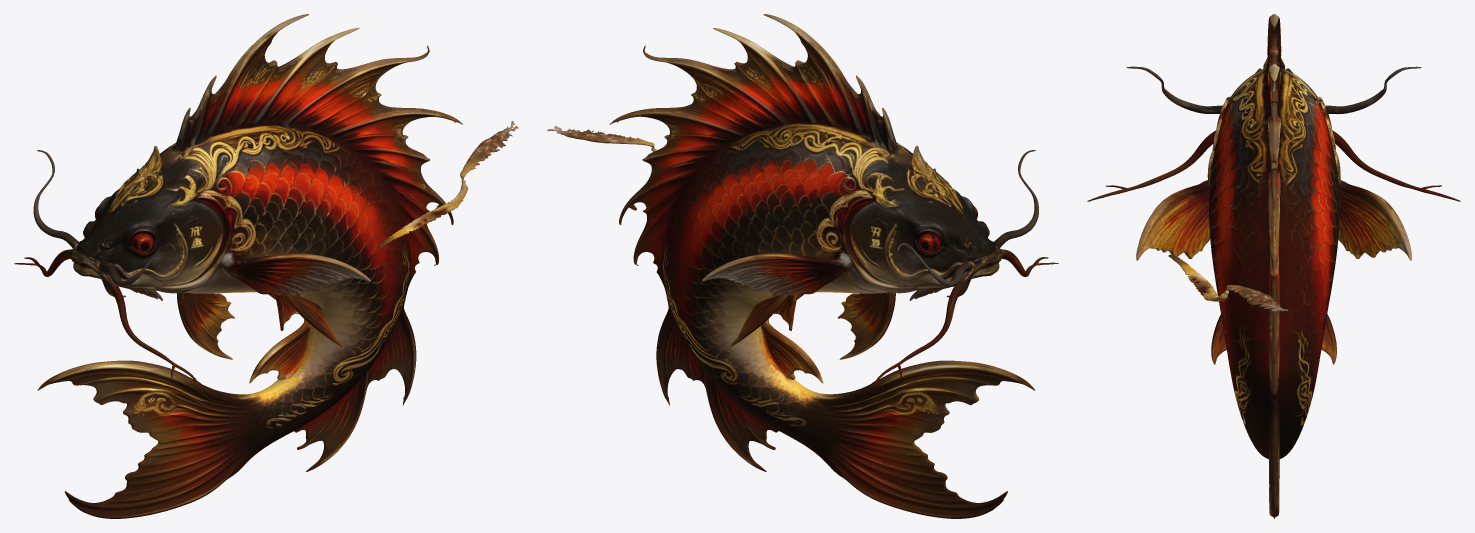
File: hua-yu.glb
3 views of the same model, side by side, from view 1: azimuth 30°, elevation 25°; view 2: azimuth 150°, elevation 25°; view 3: azimuth 270°, elevation 25° (orthographic). The views are drawn at different scales.
Visible parts, largest first — view 1: node_0; view 2: node_0; view 3: node_0.
Part boxes in pixels (x1=…): node_0: x1=14, y1=14, x2=518, y2=518; node_0: x1=547, y1=14, x2=1058, y2=518; node_0: x1=1087, y1=14, x2=1460, y2=518.
Size of the model in its own units: 1.04 by 0.9516 by 0.6545.
Materials: 1 (1 with a texture image).
